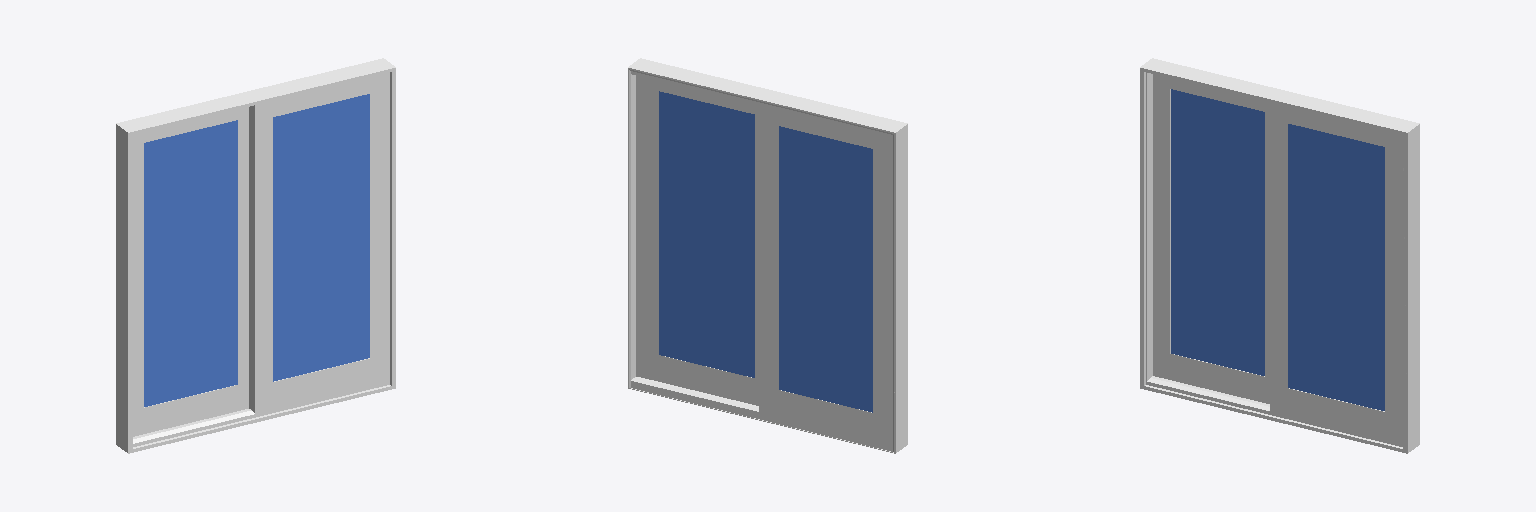
The model's file is window.obj.
The picture shows the model from 3 angles: view 1: azimuth 30°, elevation 25°; view 2: azimuth 150°, elevation 25°; view 3: azimuth 330°, elevation 25°; orthographic projection.
Visible parts, largest first — view 1: Designer_Series_French_Sliding_Door_001; view 2: Designer_Series_French_Sliding_Door_001; view 3: Designer_Series_French_Sliding_Door_001.
Boxes of the visible parts, x1=… form: Designer_Series_French_Sliding_Door_001: x1=116, y1=58, x2=395, y2=453; Designer_Series_French_Sliding_Door_001: x1=628, y1=58, x2=907, y2=453; Designer_Series_French_Sliding_Door_001: x1=1140, y1=58, x2=1419, y2=453.
Bounding box in the file's own units: 76.06 × 87.01 × 6.26.